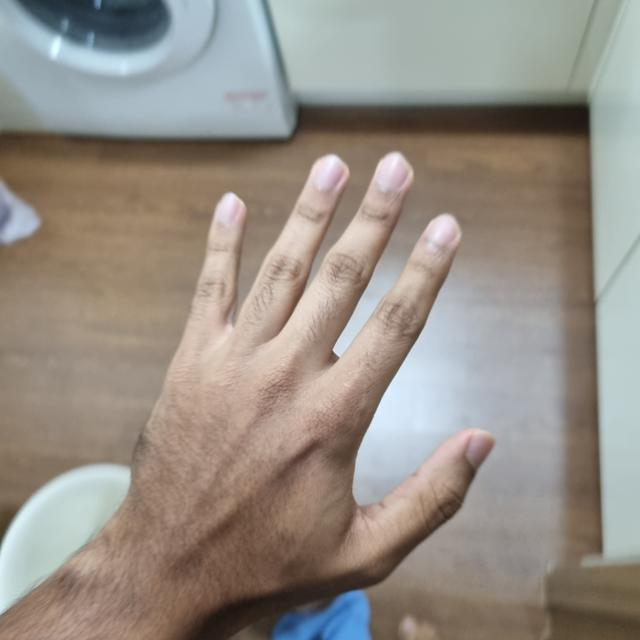Paper: (131, 157, 487, 603)
